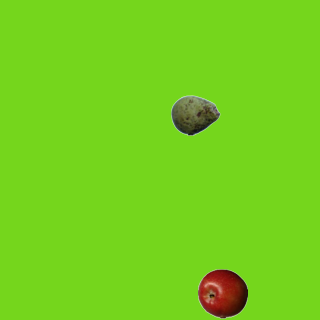Apple Braeburn: (197, 268, 247, 318)
Pear Stone: (170, 90, 220, 140)
